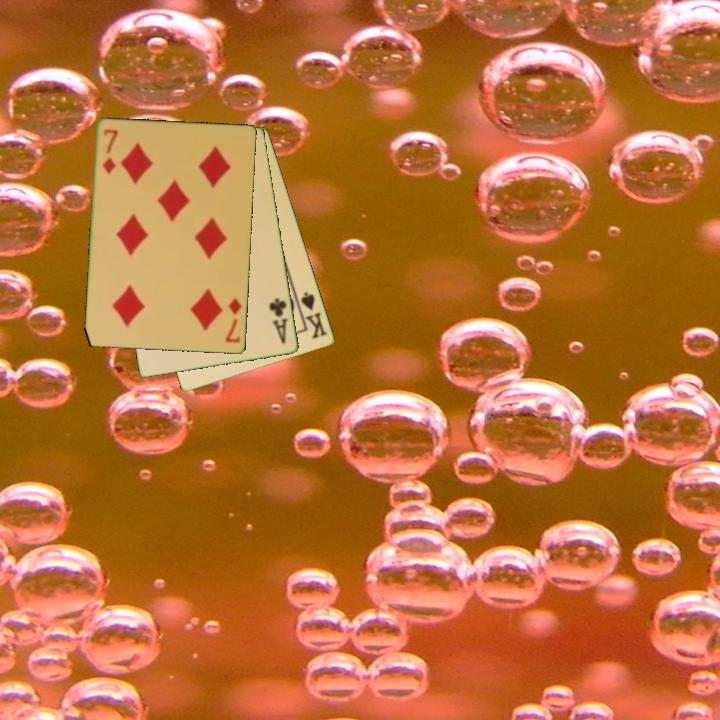7d: (222, 294, 245, 346), (99, 126, 121, 177)
Ac: (266, 295, 291, 347)
Ks: (293, 288, 330, 342)
